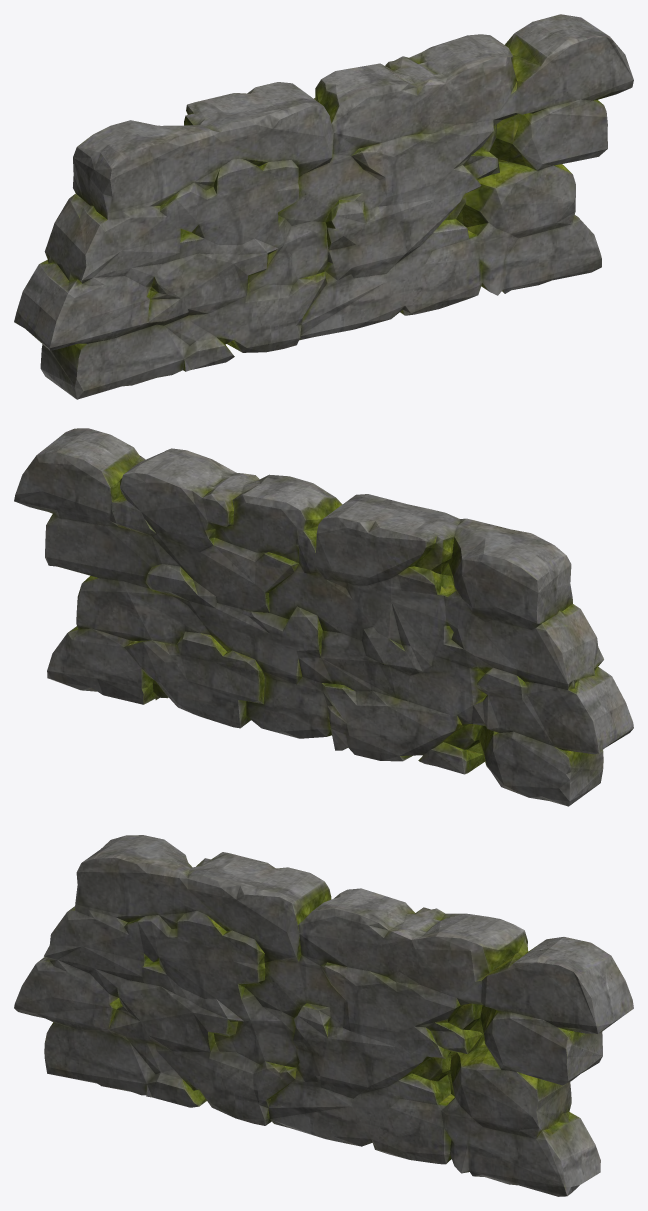
Rendered from stonewall.glb.
3 renders of one model, top to bottom at view 1: azimuth 30°, elevation 25°; view 2: azimuth 150°, elevation 25°; view 3: azimuth 330°, elevation 25°, orthographic.
Visible parts, largest first — view 1: m; view 2: m; view 3: m.
Boxes of the visible parts, x1,y1,x2,y2 form: m: (14, 14, 633, 399); m: (14, 428, 633, 806); m: (14, 835, 633, 1196).
Bounding box in the file's own units: 5 × 1.94 × 0.6235.
1 material, 1 textured.
